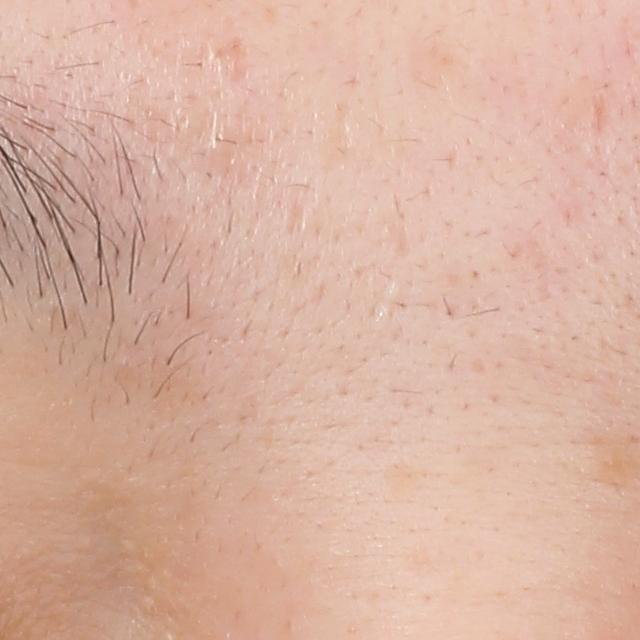atrophic_scar: (406, 42, 482, 97), (212, 35, 248, 81), (591, 91, 610, 143), (284, 202, 307, 234)
